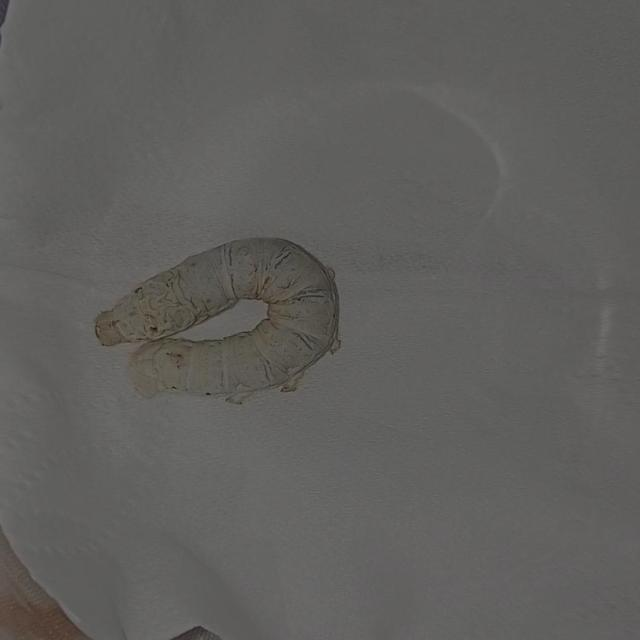Healthy: (88, 224, 352, 414)
